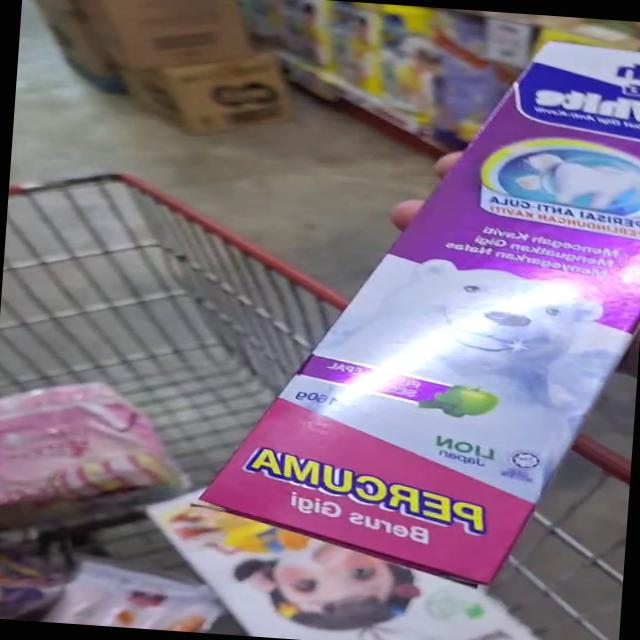Ubat Gigi: (191, 259, 566, 557), (341, 22, 640, 353)
